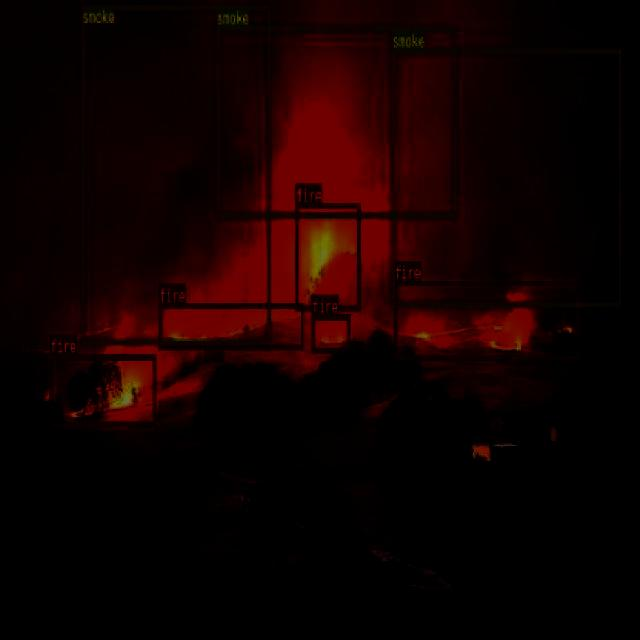fire: (394, 280, 578, 360), (50, 352, 156, 426), (294, 202, 360, 310), (158, 302, 302, 349), (312, 314, 351, 352)
smoke: (81, 4, 270, 342), (392, 48, 620, 306), (215, 24, 456, 218)
